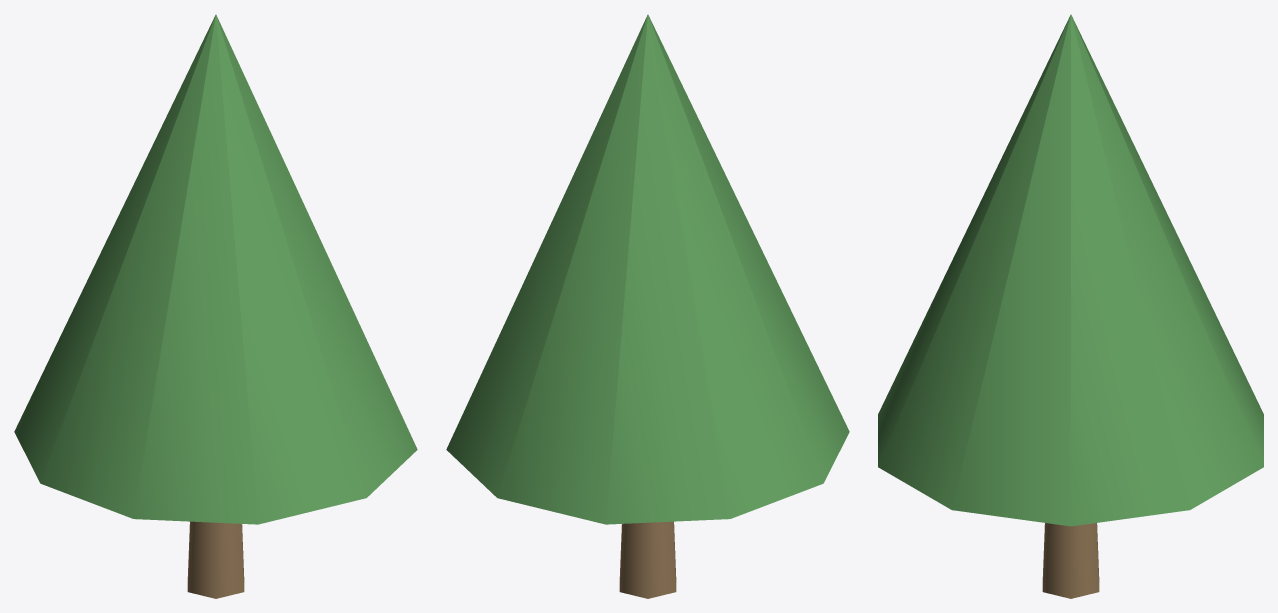
Rendered from tree-conical.glb.
3 views of the same model, side by side, from view 1: azimuth 30°, elevation 25°; view 2: azimuth 150°, elevation 25°; view 3: azimuth 270°, elevation 25° (orthographic).
Bounding box in the file's own units: 0.56 × 0.87 × 0.5326.
